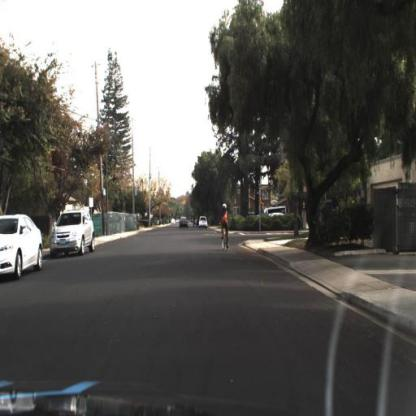biker: (215, 200, 231, 253), (218, 203, 231, 252)
car: (1, 214, 46, 282), (49, 206, 98, 261), (49, 212, 96, 258), (180, 216, 190, 229), (200, 216, 209, 229)
